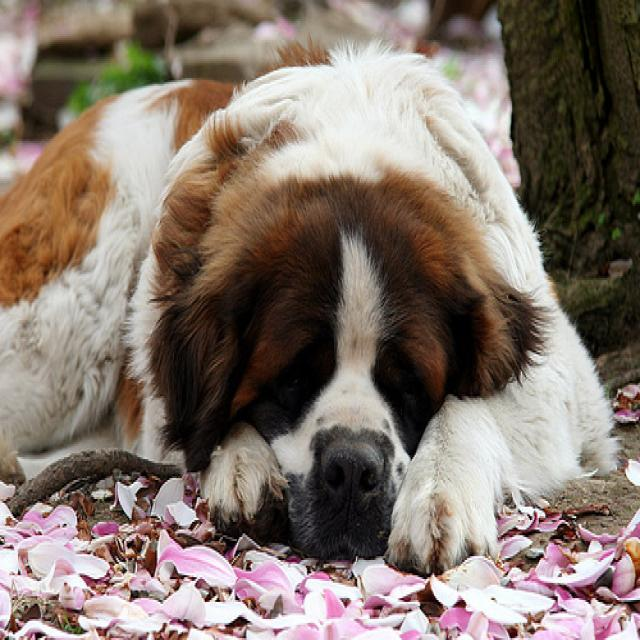dog: (146, 179, 529, 554)
